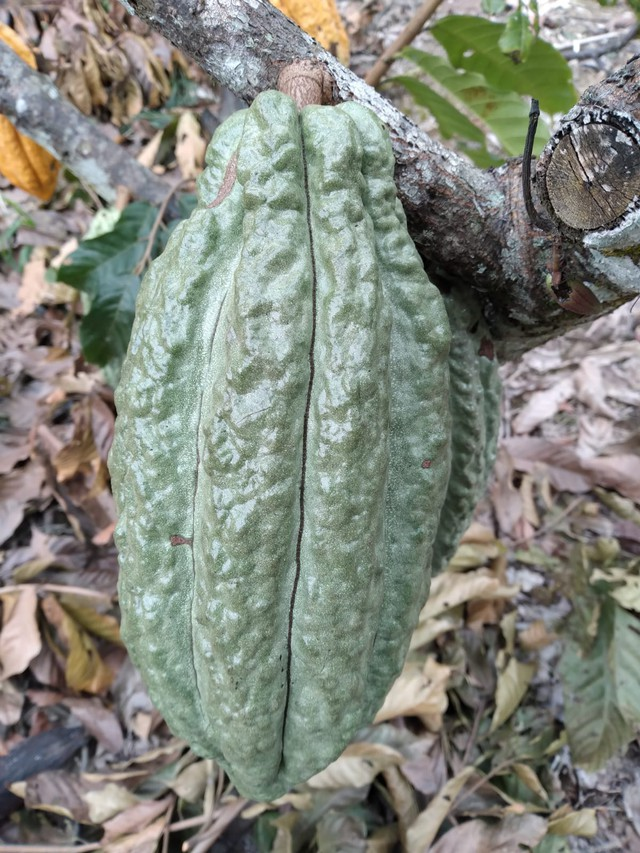Health: (99, 85, 464, 812)
